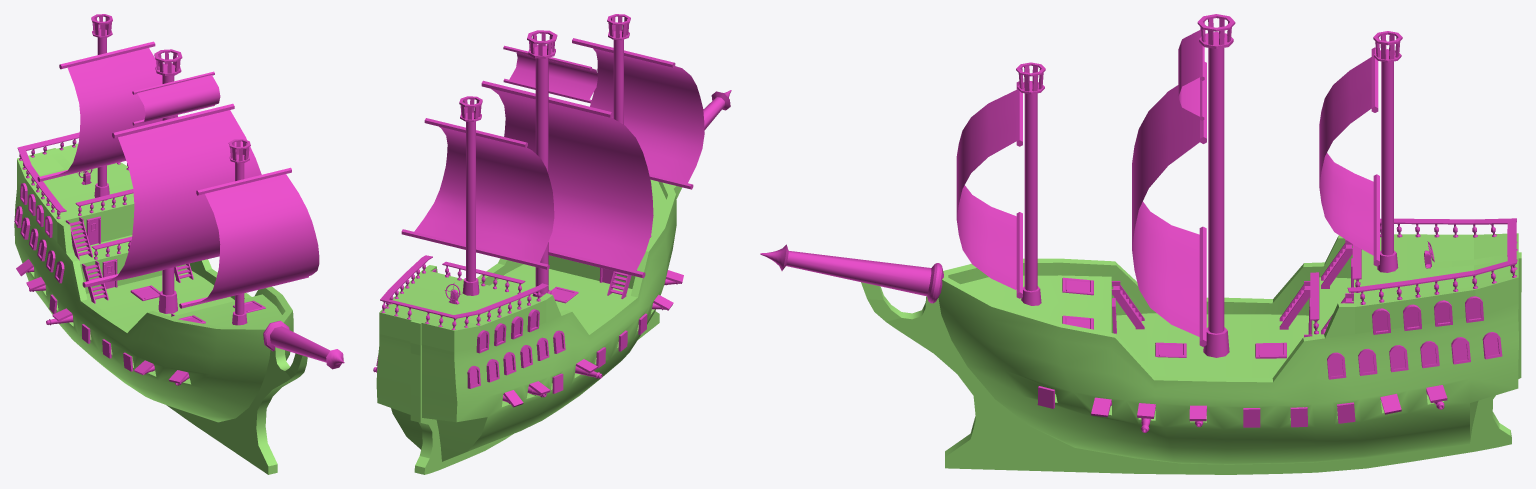
The model's file is Defence ship.fbx.
3 renders of one model, left to right at view 1: azimuth 30°, elevation 25°; view 2: azimuth 150°, elevation 25°; view 3: azimuth 270°, elevation 25°, orthographic. The views are drawn at different scales.
Parts seen in each view (by area): view 1: Ship_Small; view 2: Ship_Small; view 3: Ship_Small.
Part boxes in pixels (<box>): Ship_Small: <box>14,14,344,474</box>; Ship_Small: <box>373,14,731,474</box>; Ship_Small: <box>760,14,1521,474</box>.
Size of the model in its own units: 8.67 by 15.76 by 24.17.
